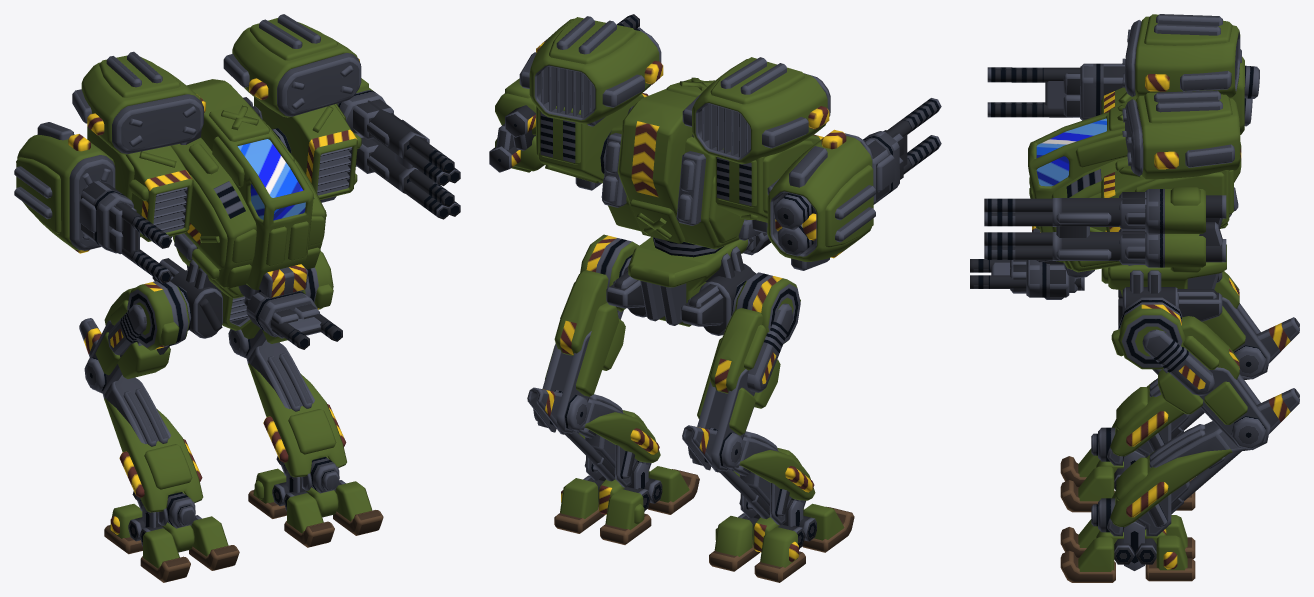
File: mechfoot3.FBX
3 views of the same model, side by side, from view 1: azimuth 30°, elevation 25°; view 2: azimuth 150°, elevation 25°; view 3: azimuth 270°, elevation 25° (orthographic). The views are drawn at different scales.
Parts seen in each view (by area): view 1: Box003, Box008, Box010, Box004, Object006, Object004, Cylinder005, Object005, Object007, Object010, Line001, Cylinder004 (+5 smaller); view 2: Box008, Box003, Box010, Object005, Line001, Cylinder001, Box004, Object006, Object004, Object008, Object011, Cylinder005 (+4 smaller); view 3: Box008, Cylinder005, Cylinder001, Object004, Box003, Box010, Object006, Line001, Cylinder004, Object007, Box004, Object008 (+3 smaller).
Boxes of the visible parts, bbox=[...] form: Box003: bbox=[171, 79, 326, 299]; Box008: bbox=[72, 14, 361, 154]; Box010: bbox=[14, 122, 172, 283]; Box004: bbox=[87, 97, 361, 241]; Object006: bbox=[79, 318, 203, 528]; Object004: bbox=[228, 329, 346, 493]; Cylinder005: bbox=[337, 78, 460, 219]; Object005: bbox=[90, 280, 191, 393]; Object007: bbox=[283, 480, 383, 547]; Object010: bbox=[139, 515, 239, 582]; Line001: bbox=[152, 237, 251, 338]; Cylinder004: bbox=[243, 291, 342, 349]; Box008: bbox=[519, 16, 830, 164]; Box003: bbox=[600, 77, 761, 249]; Box010: bbox=[767, 98, 941, 270]; Object005: bbox=[691, 272, 800, 471]; Line001: bbox=[606, 237, 756, 335]; Cylinder001: bbox=[536, 234, 639, 433]; Box004: bbox=[535, 93, 823, 233]; Object006: bbox=[682, 425, 815, 525]; Object004: bbox=[527, 387, 660, 487]; Object008: bbox=[554, 475, 651, 544]; Object011: bbox=[709, 513, 805, 582]; Cylinder005: bbox=[489, 14, 644, 172]; Box008: bbox=[1122, 14, 1240, 179]; Cylinder005: bbox=[984, 187, 1226, 272]; Cylinder001: bbox=[1111, 297, 1270, 449]; Object004: bbox=[1091, 388, 1299, 536]; Box003: bbox=[1028, 105, 1241, 278]; Box010: bbox=[987, 49, 1259, 134]; Object006: bbox=[1091, 317, 1299, 465]; Line001: bbox=[1101, 244, 1226, 325]; Cylinder004: bbox=[970, 259, 1084, 299]; Object007: bbox=[1060, 519, 1134, 582]; Box004: bbox=[1101, 87, 1233, 231]; Object008: bbox=[1135, 515, 1195, 581].
Bounding box in the file's own units: 11.5 × 15.32 × 9.71.
Materials: 1 (1 with a texture image).
